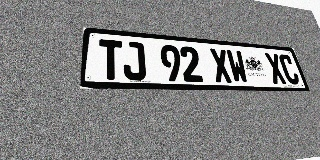2: (179, 46, 203, 82)
9: (160, 44, 184, 82)
C: (278, 54, 301, 84)
J: (123, 41, 146, 81)
T: (99, 39, 123, 80)
W: (226, 50, 249, 83)
X: (209, 48, 233, 83), (264, 53, 287, 84)
